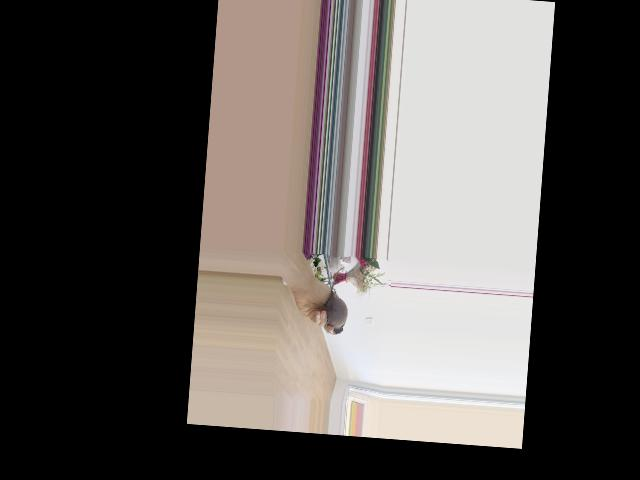beet: (322, 266, 350, 335)
